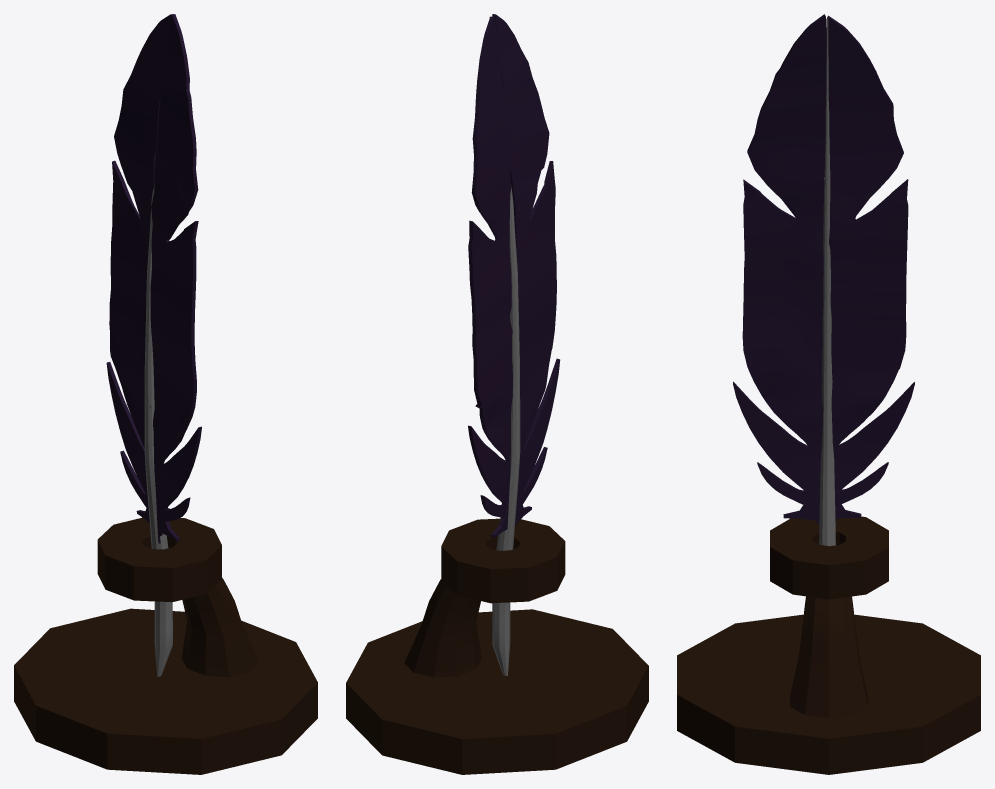
Rendered from Pluma.fbx.
The picture shows the model from 3 angles, left to right: view 1: azimuth 30°, elevation 25°; view 2: azimuth 150°, elevation 25°; view 3: azimuth 270°, elevation 25°; orthographic projection.
Visible parts, largest first — view 1: pCylinder1, pasted__pasted__planarTrimmedSurface2, pasted__pCylinder1 (×3), pasted__planarTrimmedSurface2; view 2: pCylinder1, pasted__pCylinder1 (×3), pasted__planarTrimmedSurface2, pasted__pasted__planarTrimmedSurface2; view 3: pCylinder1, pasted__pasted__planarTrimmedSurface2, pasted__planarTrimmedSurface2, pasted__pCylinder1 (×3).
Part boxes in pixels (bbox=[...]): pCylinder1: bbox=[14, 608, 317, 774]; pasted__pasted__planarTrimmedSurface2: bbox=[150, 14, 201, 541]; pasted__pCylinder1 (×3): bbox=[97, 180, 259, 677]; pasted__planarTrimmedSurface2: bbox=[106, 14, 173, 543]; pCylinder1: bbox=[346, 609, 648, 774]; pasted__pCylinder1 (×3): bbox=[404, 17, 565, 677]; pasted__planarTrimmedSurface2: bbox=[468, 16, 512, 537]; pasted__pasted__planarTrimmedSurface2: bbox=[492, 14, 560, 527]; pCylinder1: bbox=[677, 614, 980, 774]; pasted__pasted__planarTrimmedSurface2: bbox=[733, 14, 826, 525]; pasted__planarTrimmedSurface2: bbox=[822, 15, 914, 518]; pasted__pCylinder1 (×3): bbox=[770, 18, 888, 717].
Bounding box in the file's own units: 1.69 × 4.31 × 1.7.
